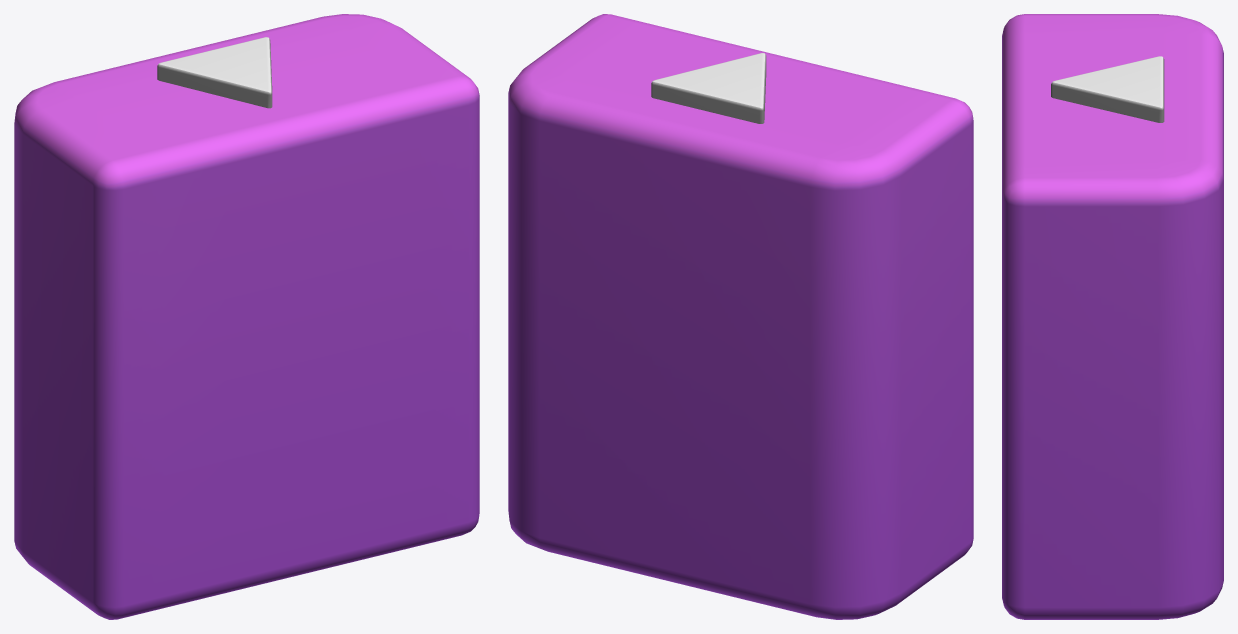
The model's file is Blast_Pink.fbx.
3 views of the same model, side by side, from view 1: azimuth 30°, elevation 25°; view 2: azimuth 150°, elevation 25°; view 3: azimuth 270°, elevation 25° (orthographic). The views are drawn at different scales.
Visible parts, largest first — view 1: Blast_Pink; view 2: Blast_Pink; view 3: Blast_Pink.
Part boxes in pixels (box(x1,y1,x2,y2)): Blast_Pink: box(14, 14, 479, 619); Blast_Pink: box(508, 14, 973, 619); Blast_Pink: box(1002, 14, 1223, 619).
Size of the model in its own units: 1.01 by 1.19 by 0.525.
1 material, 1 textured.
